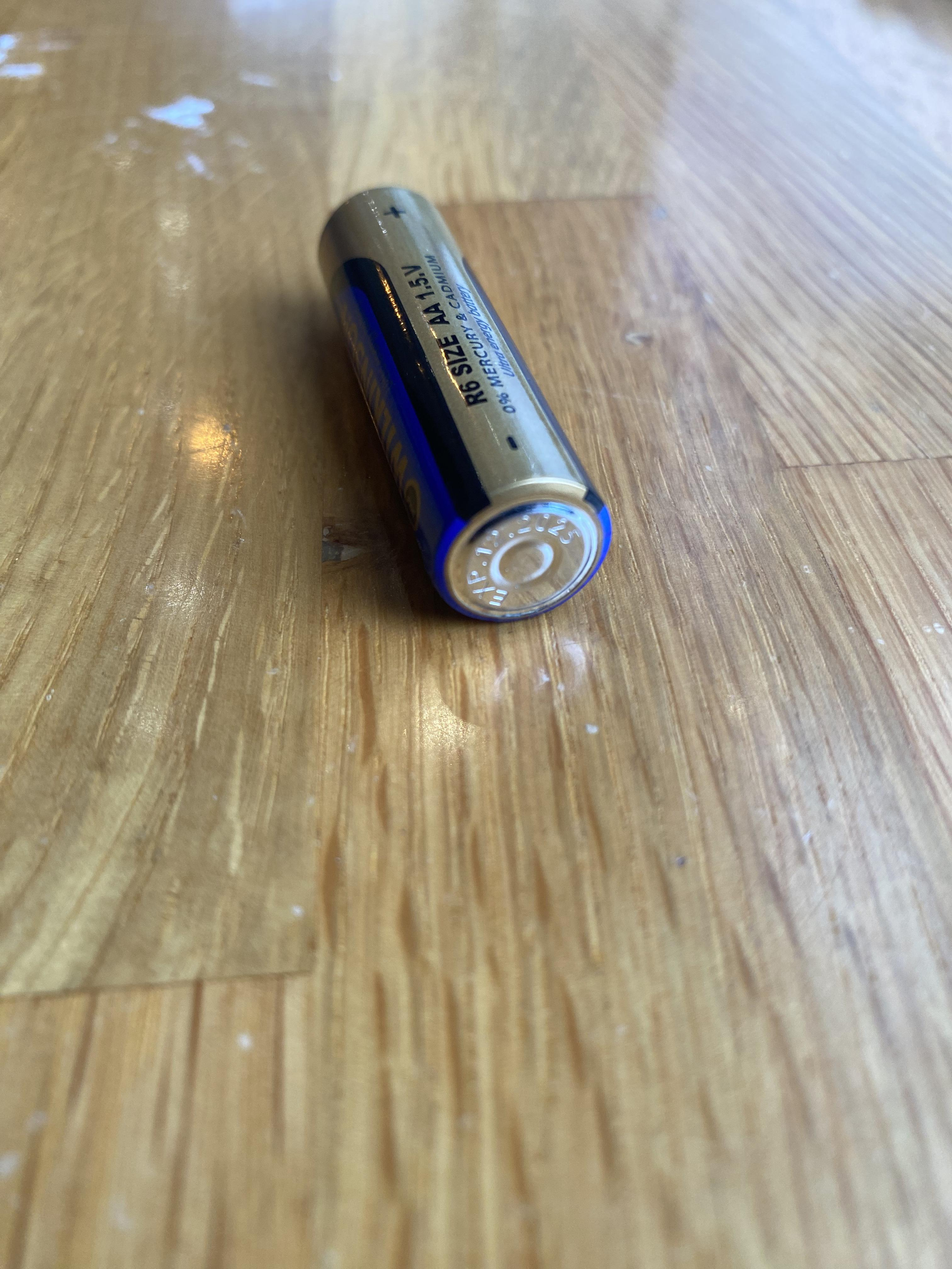AA: (315, 183, 614, 623)
